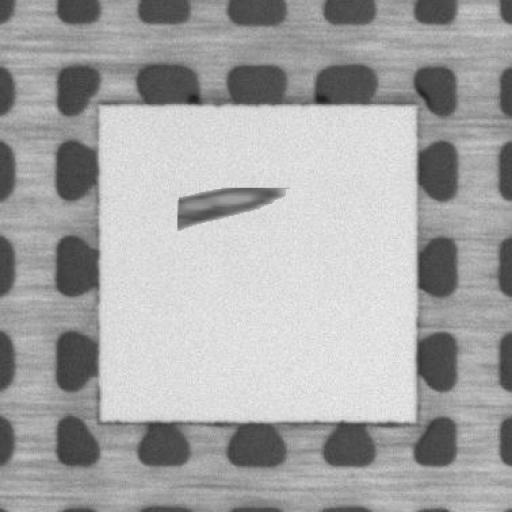DIE_INK: (175, 186, 283, 230)
